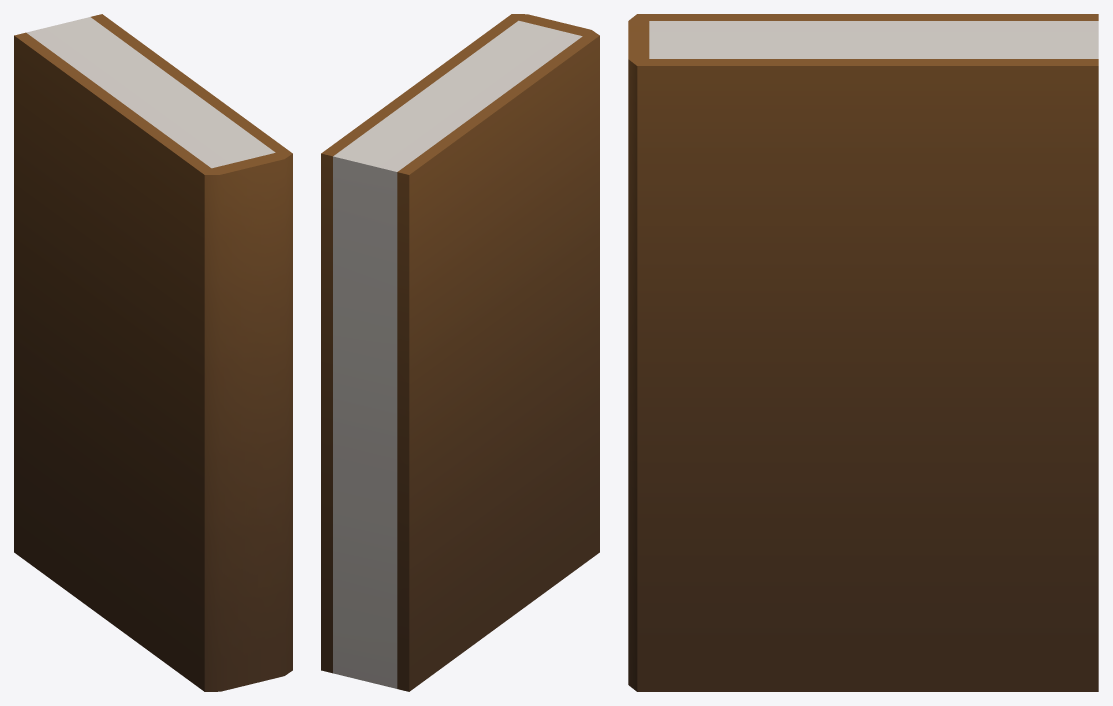
Rendered from Book_D.fbx.
The picture shows the model from 3 angles, left to right: view 1: azimuth 30°, elevation 25°; view 2: azimuth 150°, elevation 25°; view 3: azimuth 270°, elevation 25°; orthographic projection. The views are drawn at different scales.
Parts seen in each view (by area): view 1: Book_D; view 2: Book_D; view 3: Book_D.
Boxes of the visible parts, x1=… form: Book_D: x1=14, y1=14, x2=292, y2=691; Book_D: x1=321, y1=14, x2=599, y2=691; Book_D: x1=628, y1=14, x2=1098, y2=691.
Size of the model in its own units: 5.48 by 30.73 by 20.94.
